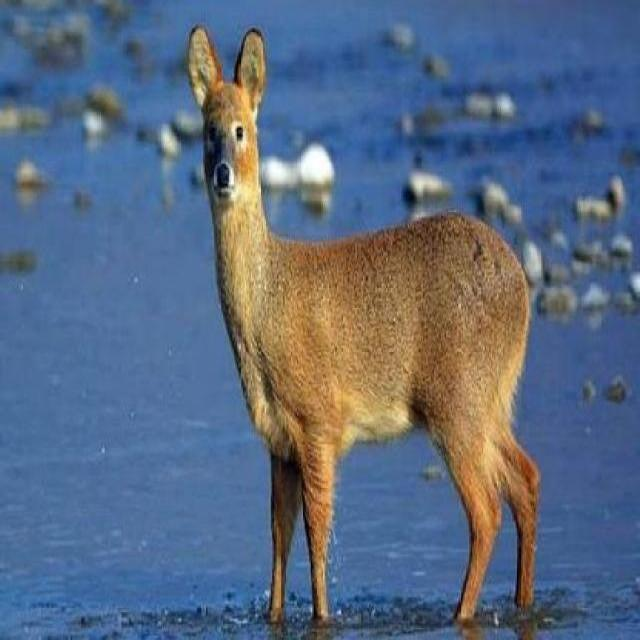deer: (186, 20, 545, 633)
